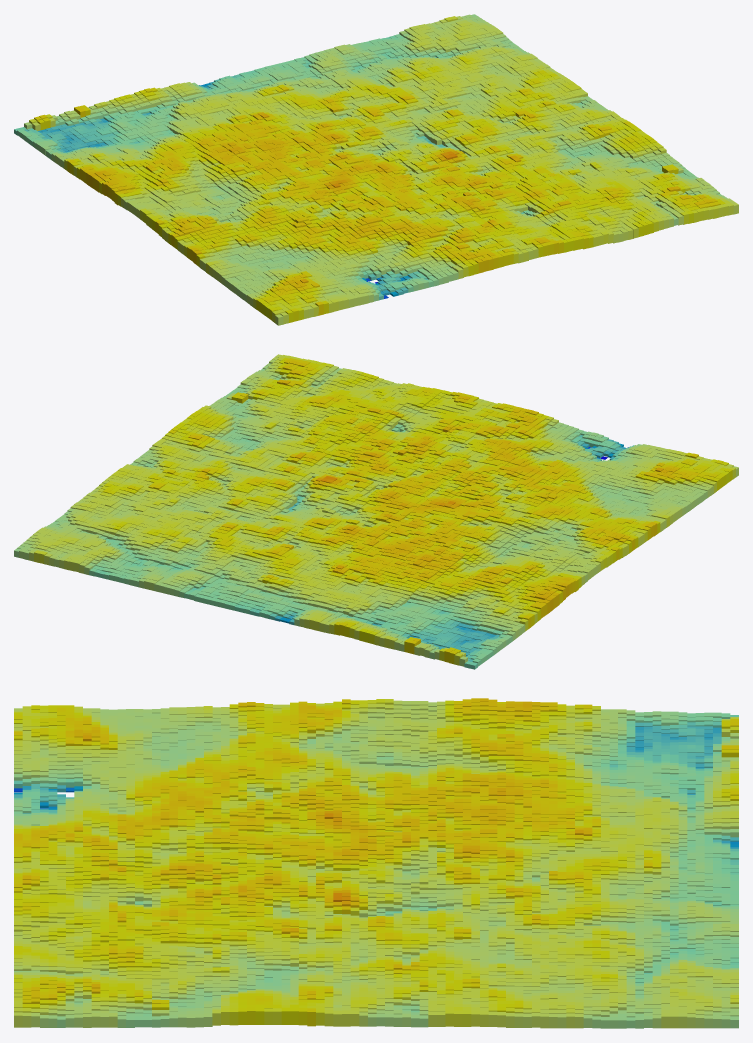
File: population.glb
The picture shows the model from 3 angles, top to bottom: view 1: azimuth 30°, elevation 25°; view 2: azimuth 150°, elevation 25°; view 3: azimuth 270°, elevation 25°; orthographic projection. The views are drawn at different scales.
Visible parts, largest first — view 1: population; view 2: population; view 3: population.
Boxes of the visible parts, bbox=[...] form: population: bbox=[14, 14, 738, 325]; population: bbox=[14, 354, 738, 669]; population: bbox=[14, 698, 738, 1028].
Size of the model in its own units: 8415 by 305 by 8358.
